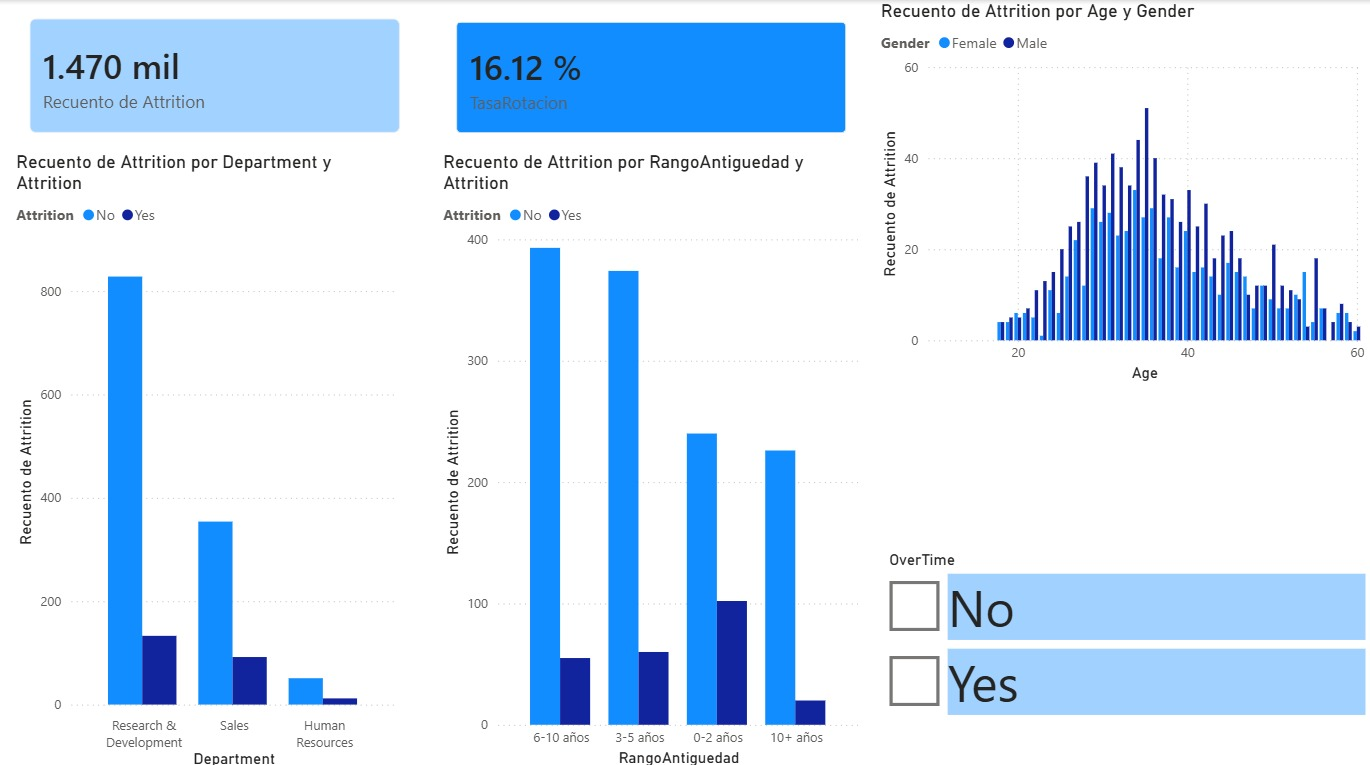

The page's visual inventory and layout, read from the dashboard file:
{"tool":"powerbi","page":{"name":"Página 1","canvas":[1280,720],"ordinal":0},"visuals":[{"type":"cardVisual","fields":{"Data":["CountNonNull(hr_data_dashboard.Attrition)"]},"box":[10.6,0,380.8,141.7],"z":0},{"type":"cardVisual","fields":{"Data":["hr_data_dashboard.TasaRotacion"]},"box":[409.1,3.5,398.5,138.1],"z":1},{"type":"clusteredColumnChart","fields":{"Category":["hr_data_dashboard.Department"],"Series":["hr_data_dashboard.Attrition"],"Y":["CountNonNull(hr_data_dashboard.Attrition)"]},"box":[10.6,141.7,364.8,579.1],"z":2},{"type":"clusteredColumnChart","fields":{"Category":["hr_data_dashboard.RangoAntiguedad"],"Y":["CountNonNull(hr_data_dashboard.Attrition)"],"Series":["hr_data_dashboard.Attrition"]},"box":[409,142,398,578],"z":3},{"type":"clusteredColumnChart","fields":{"Category":["hr_data_dashboard.Age"],"Series":["hr_data_dashboard.Gender"],"Y":["CountNonNull(hr_data_dashboard.Attrition)"]},"box":[817.6,0,461.5,360.8],"z":4},{"type":"slicer","fields":{"Values":["hr_data_dashboard.OverTime"]},"box":[817.8,508.4,462.6,211.6],"z":5}]}

Visuals, with their boxes in screenshot pixels (x1, y1, x2, y2), scaled from the page's 1280x720 canvas onto the 1370x765 screenshot:
cardVisual - CountNonNull(hr_data_dashboard.Attrition): bbox=[11, 0, 419, 151]
cardVisual - hr_data_dashboard.TasaRotacion: bbox=[438, 4, 864, 150]
clusteredColumnChart - hr_data_dashboard.Department x hr_data_dashboard.Attrition: bbox=[11, 151, 402, 764]
clusteredColumnChart - hr_data_dashboard.RangoAntiguedad x CountNonNull(hr_data_dashboard.Attrition): bbox=[438, 151, 864, 764]
clusteredColumnChart - hr_data_dashboard.Age x hr_data_dashboard.Gender: bbox=[875, 0, 1369, 383]
slicer - hr_data_dashboard.OverTime: bbox=[875, 540, 1369, 764]
